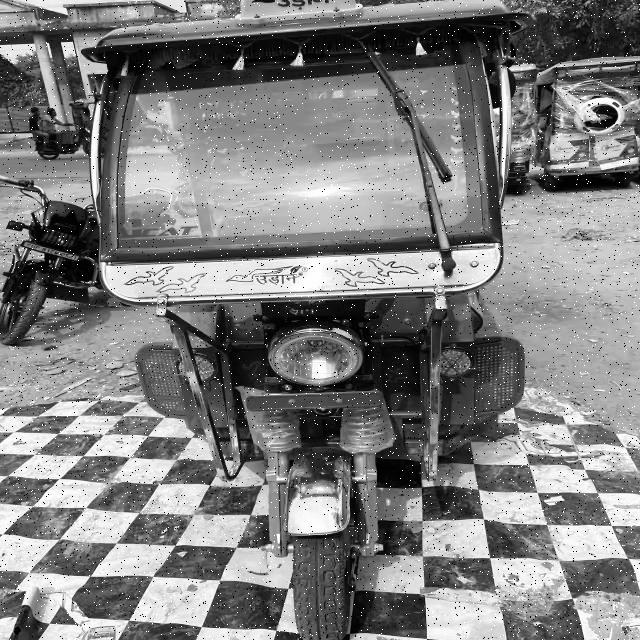Toto: (83, 0, 544, 640)
